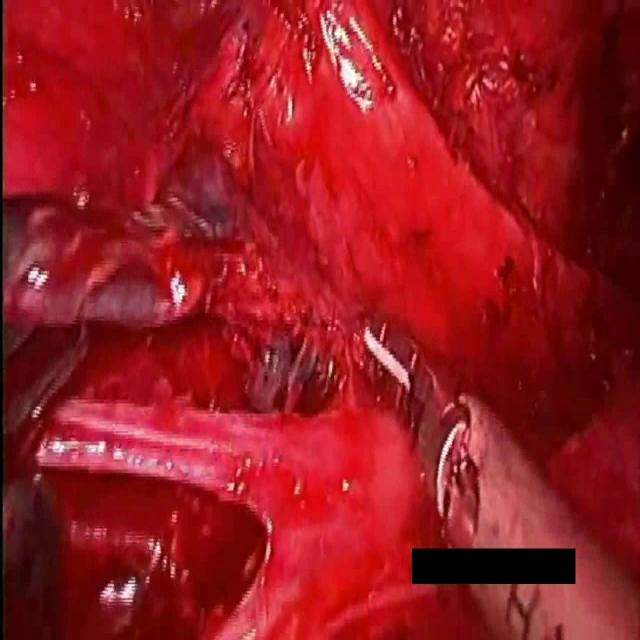surgical-tool: (366, 313, 640, 639)
